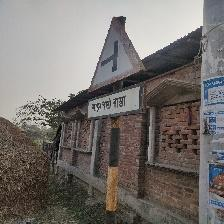Side-road-left: (84, 15, 147, 122)
